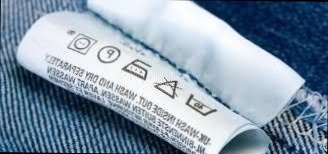40C: (186, 94, 213, 118)
DN_bleach: (154, 77, 179, 99)
dry_clean_any_solvent_except_trichloroethylene: (97, 45, 120, 66)
iron_high: (122, 58, 151, 80)
tumble_dry_medium: (65, 33, 95, 56)
